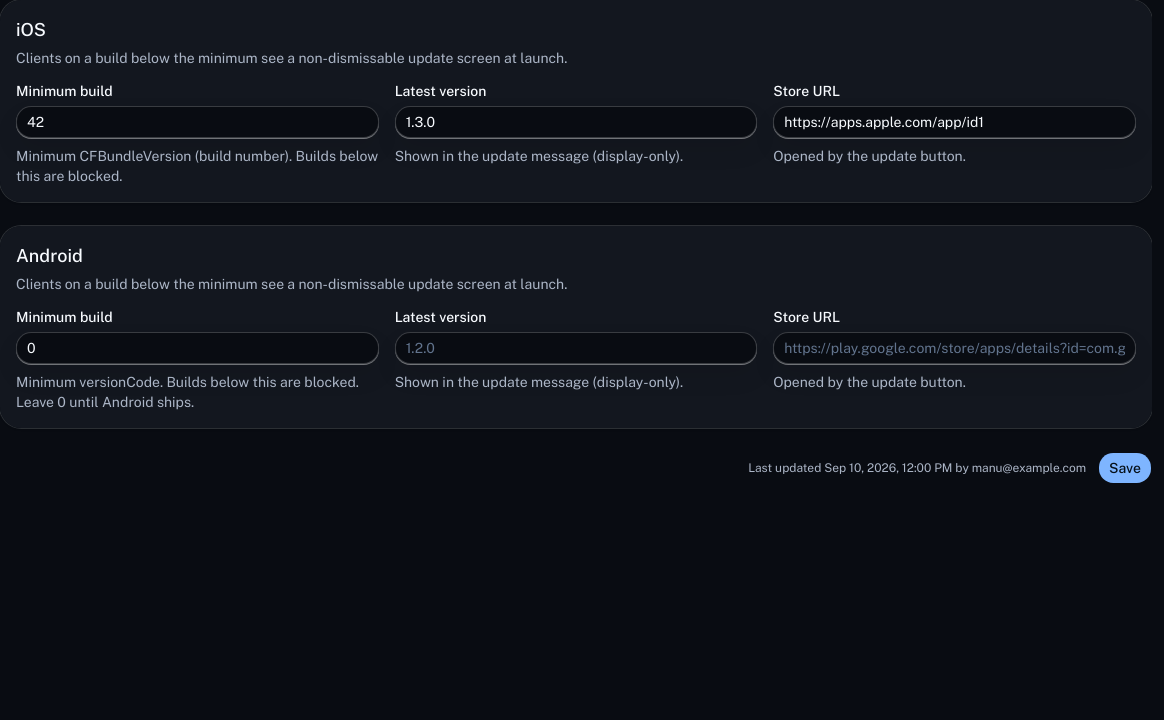
Scenario: AppVersionForm — the gate value › REFUSES a build past the int32 ceiling, with a message
Replace the text in the number field labelled "Minimum build" below "iOS" with "99999999999": [197, 122] box [16,106,379,138]
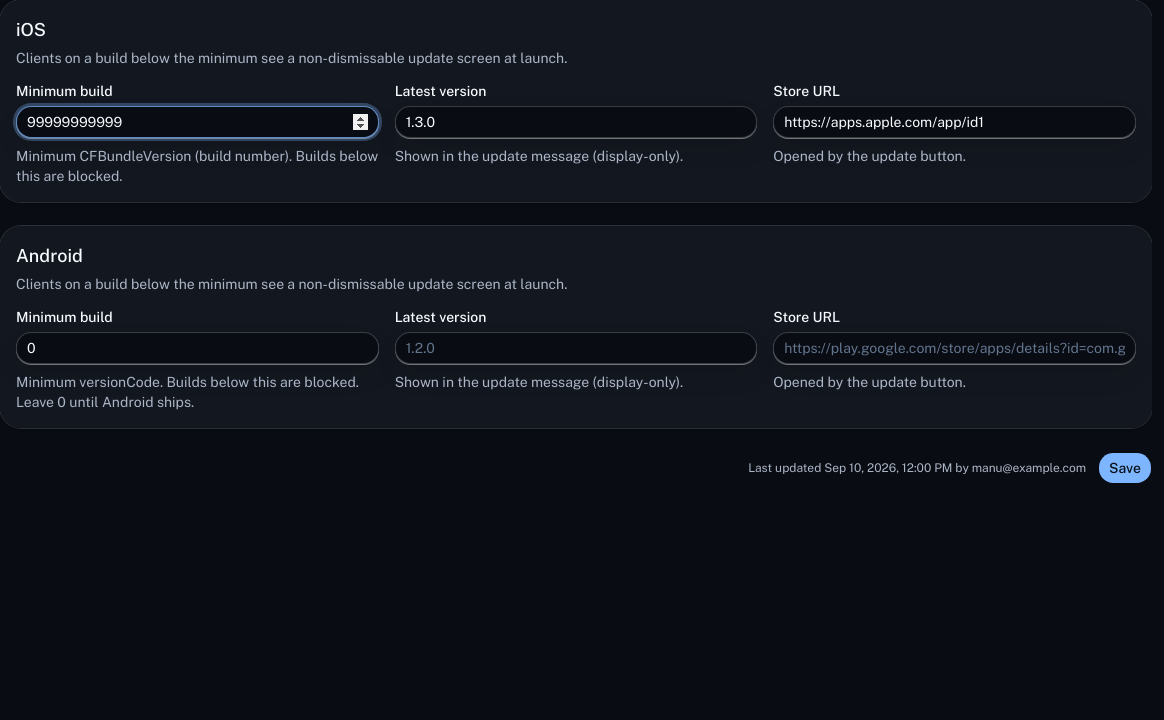
Click the button "Save": [1125, 468] box [1098,452,1152,484]
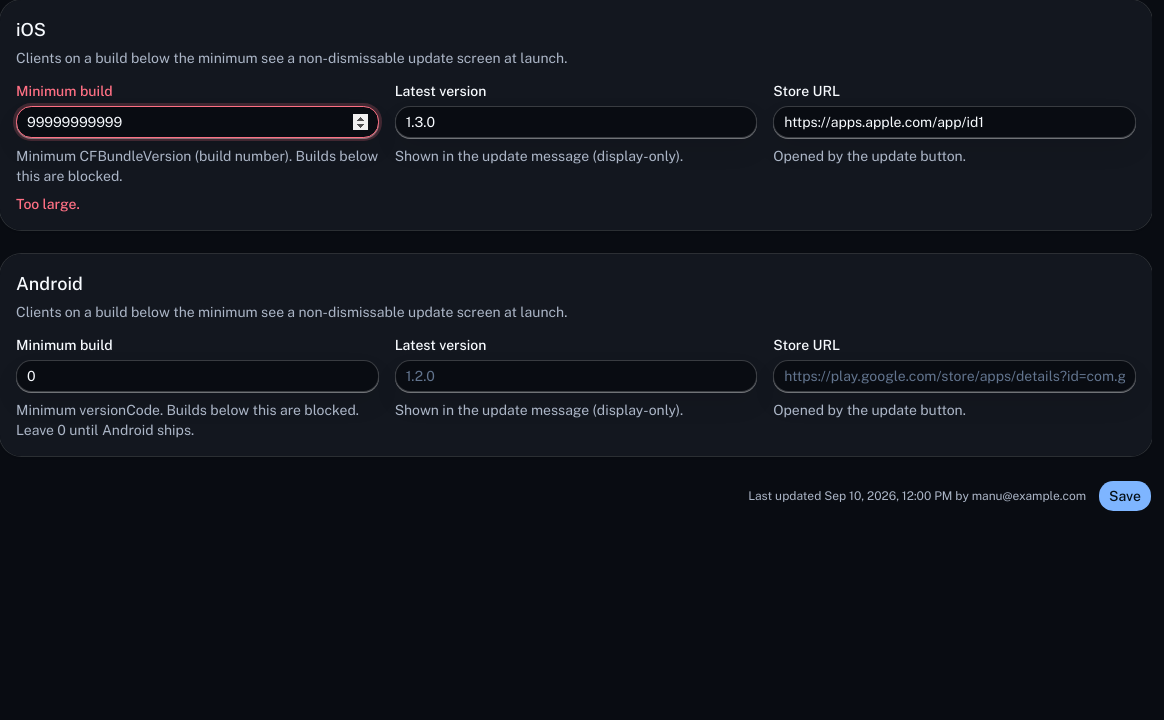
Expected: the text "Too large." is shown, [16,196,80,212]
